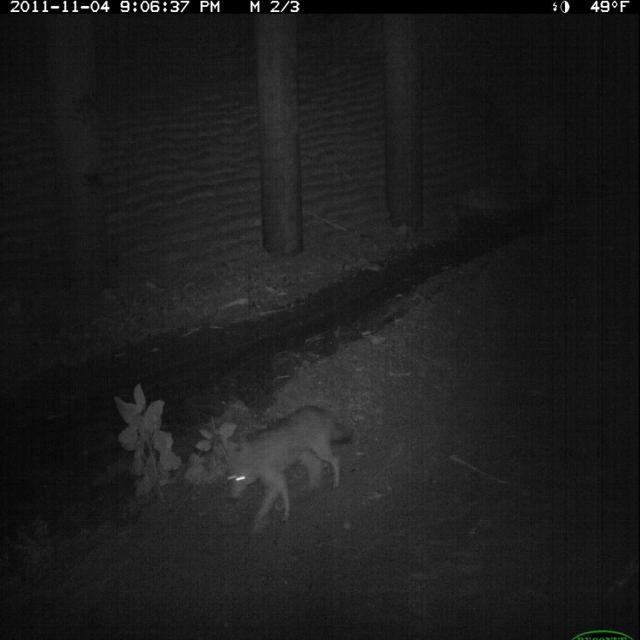coyote: (220, 398, 349, 543)
